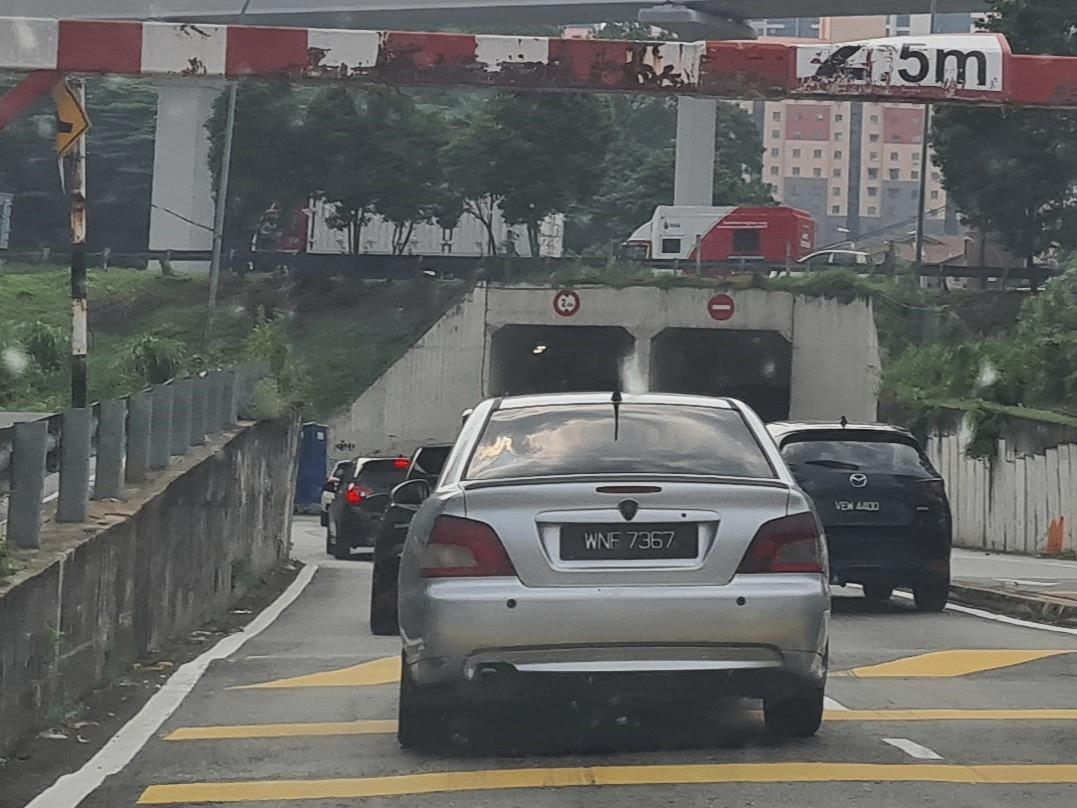License Plate: (561, 524, 699, 561)
